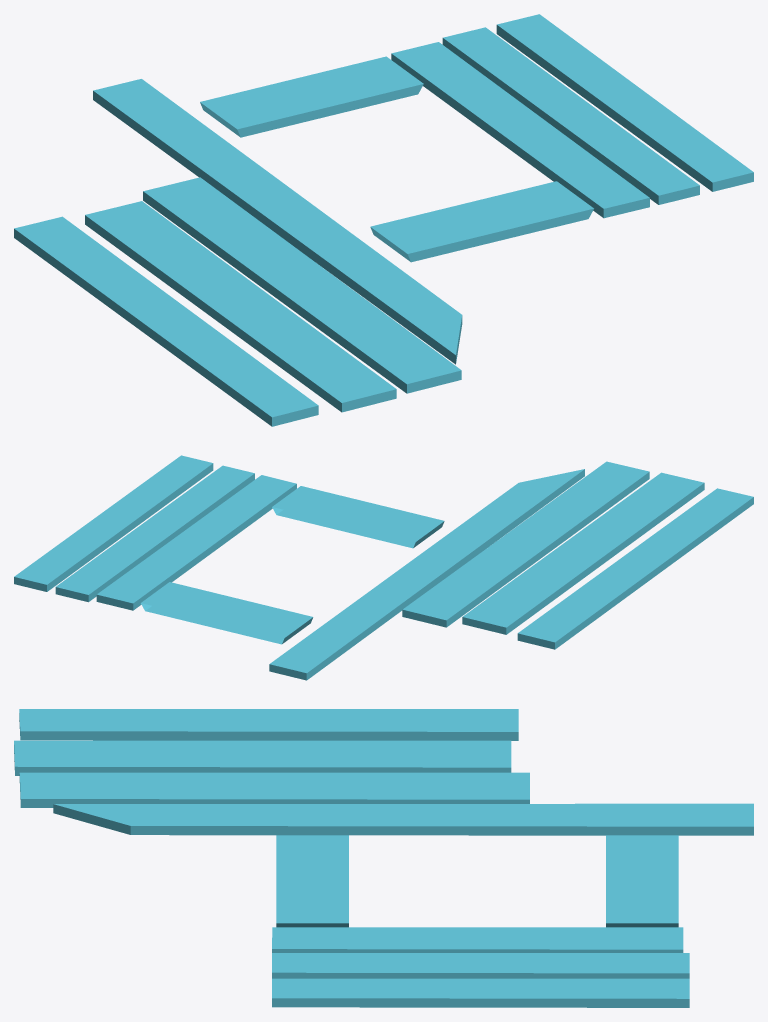
File: water5 Crop.fbx
3 views of the same model, one above another, from view 1: azimuth 30°, elevation 25°; view 2: azimuth 150°, elevation 25°; view 3: azimuth 270°, elevation 25° (orthographic). The views are drawn at different scales.
Parts seen in each view (by area): view 1: Cube.040, Cube.049, Cube.044, Cube.045, Cube.041, Cube.050, Cube.042, Cube.047, Cube.048; view 2: Cube.040, Cube.049, Cube.044, Cube.045, Cube.041, Cube.050, Cube.042, Cube.048, Cube.047; view 3: Cube.040, Cube.049, Cube.044, Cube.045, Cube.050, Cube.042, Cube.041, Cube.047, Cube.048.
Part boxes in pixels (x1,y1,x2,y2): Cube.040: (93, 79, 462, 364); Cube.049: (143, 177, 461, 393); Cube.044: (85, 201, 396, 412); Cube.045: (14, 216, 318, 426); Cube.041: (391, 42, 649, 218); Cube.050: (496, 14, 753, 191); Cube.042: (442, 27, 699, 204); Cube.047: (370, 181, 593, 262); Cube.048: (200, 56, 423, 137); Cube.040: (269, 469, 584, 680); Cube.049: (402, 461, 649, 627); Cube.044: (462, 472, 704, 634); Cube.045: (517, 488, 753, 649); Cube.041: (96, 475, 296, 610); Cube.050: (14, 455, 213, 591); Cube.042: (55, 465, 254, 602); Cube.048: (141, 582, 313, 644); Cube.047: (272, 486, 444, 548); Cube.040: (53, 803, 753, 835); Cube.049: (19, 772, 529, 807); Cube.044: (14, 740, 511, 775); Cube.045: (19, 709, 518, 740); Cube.050: (272, 978, 689, 1007); Cube.042: (272, 953, 689, 978); Cube.041: (272, 927, 683, 952); Cube.047: (276, 835, 348, 927); Cube.048: (606, 835, 678, 927).
Bounding box in the file's own units: 220 × 3.43 × 238.
